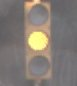Yellow: (21, 3, 58, 86)
